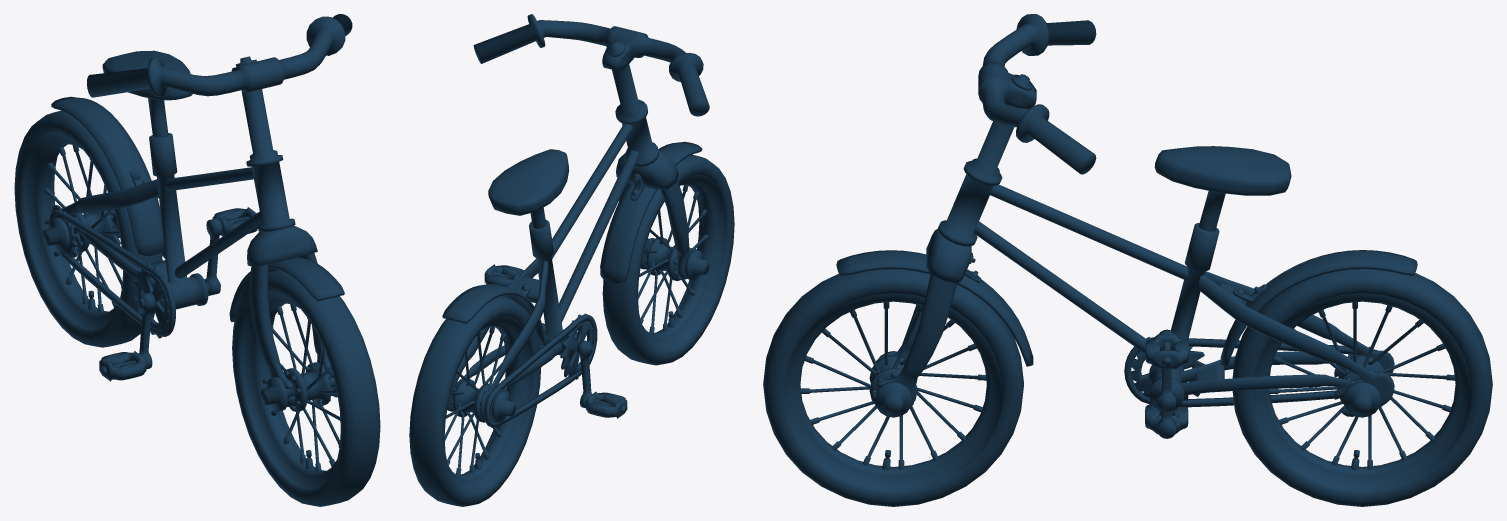
The model's file is bicycle2_001.FBX.
3 views of the same model, side by side, from view 1: azimuth 30°, elevation 25°; view 2: azimuth 150°, elevation 25°; view 3: azimuth 270°, elevation 25° (orthographic). The views are drawn at different scales.
Parts seen in each view (by area): view 1: bicycle_01; view 2: bicycle_01; view 3: bicycle_01.
Boxes of the visible parts, box(x1,y1,x2,y2) form: bicycle_01: box(14, 14, 380, 506); bicycle_01: box(409, 14, 734, 506); bicycle_01: box(763, 14, 1492, 506).
Size of the model in its own units: 66.27 by 98.13 by 147.
